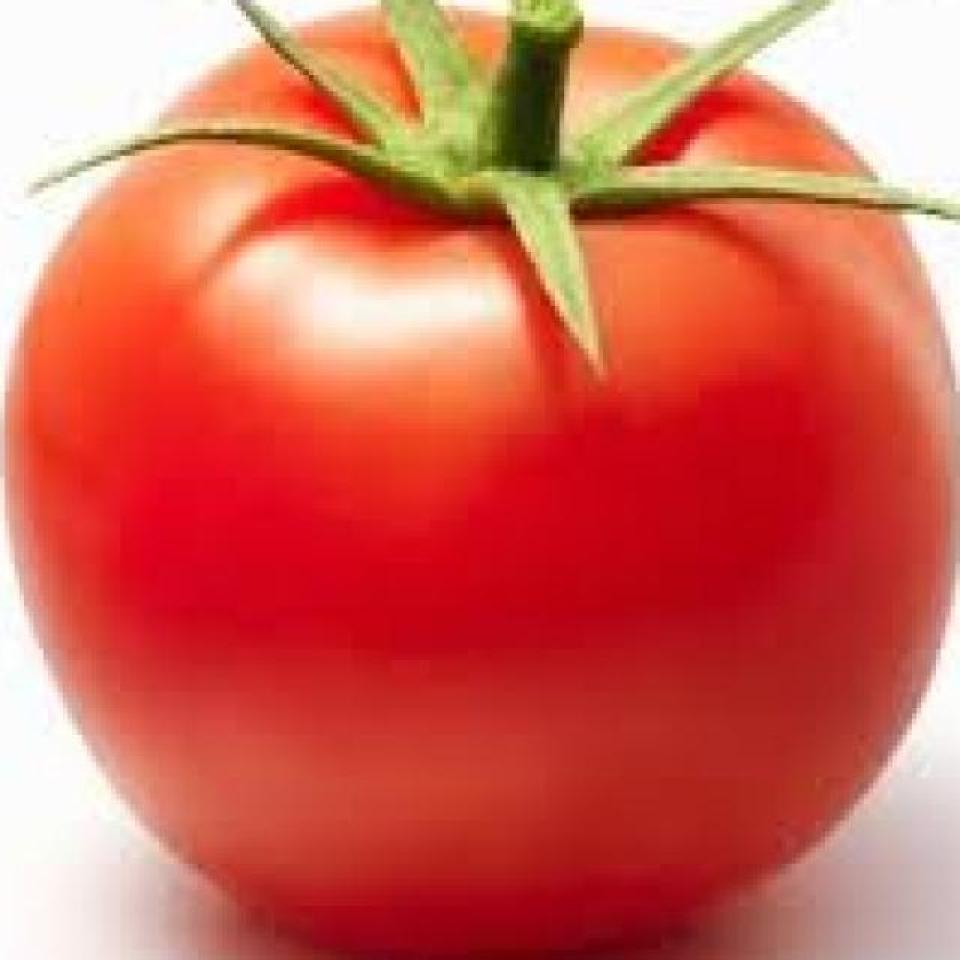Healthy: (34, 0, 960, 960)
